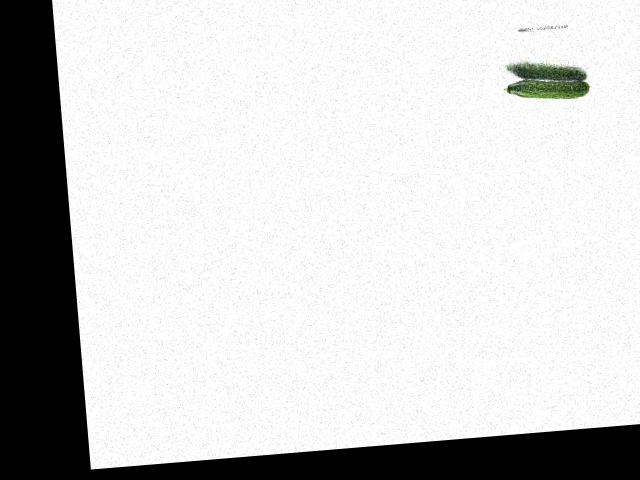cucumber: (503, 74, 589, 104)
